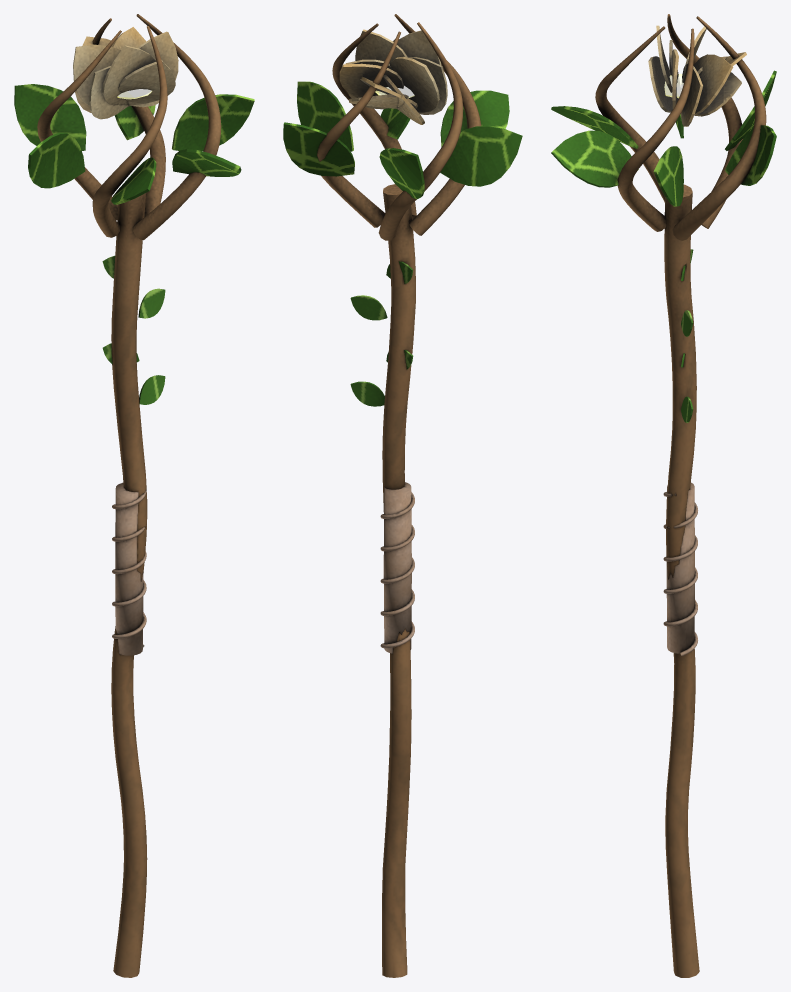
Rendered from arma_lend_foco_natural_celestial.glb.
The picture shows the model from 3 angles, left to right: view 1: azimuth 30°, elevation 25°; view 2: azimuth 150°, elevation 25°; view 3: azimuth 270°, elevation 25°; orthographic projection.
Parts seen in each view (by area): view 1: arma_lend_foco_natural_celestial; view 2: arma_lend_foco_natural_celestial; view 3: arma_lend_foco_natural_celestial.
Part boxes in pixels (bbox=[...]): arma_lend_foco_natural_celestial: bbox=[14, 14, 254, 977]; arma_lend_foco_natural_celestial: bbox=[283, 14, 522, 977]; arma_lend_foco_natural_celestial: bbox=[551, 14, 776, 977].
Bounding box in the file's own units: 0.4367 × 1.76 × 0.3793.
Materials: 2 (1 with a texture image).
